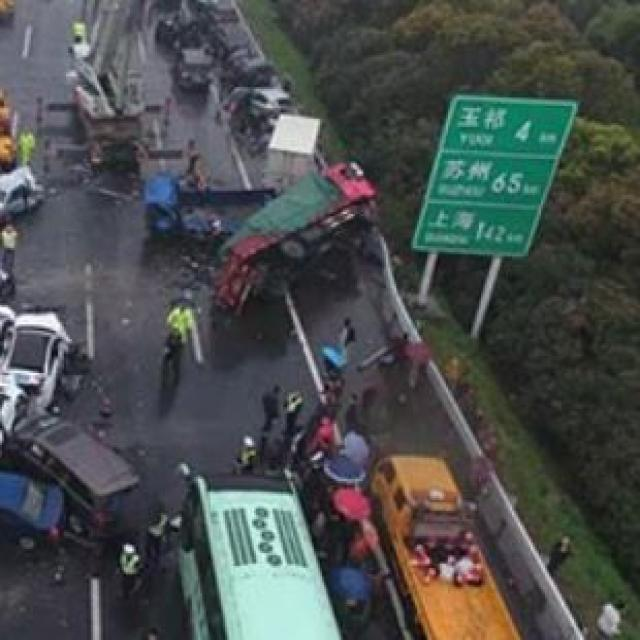traffic_incident: (144, 159, 382, 333)
